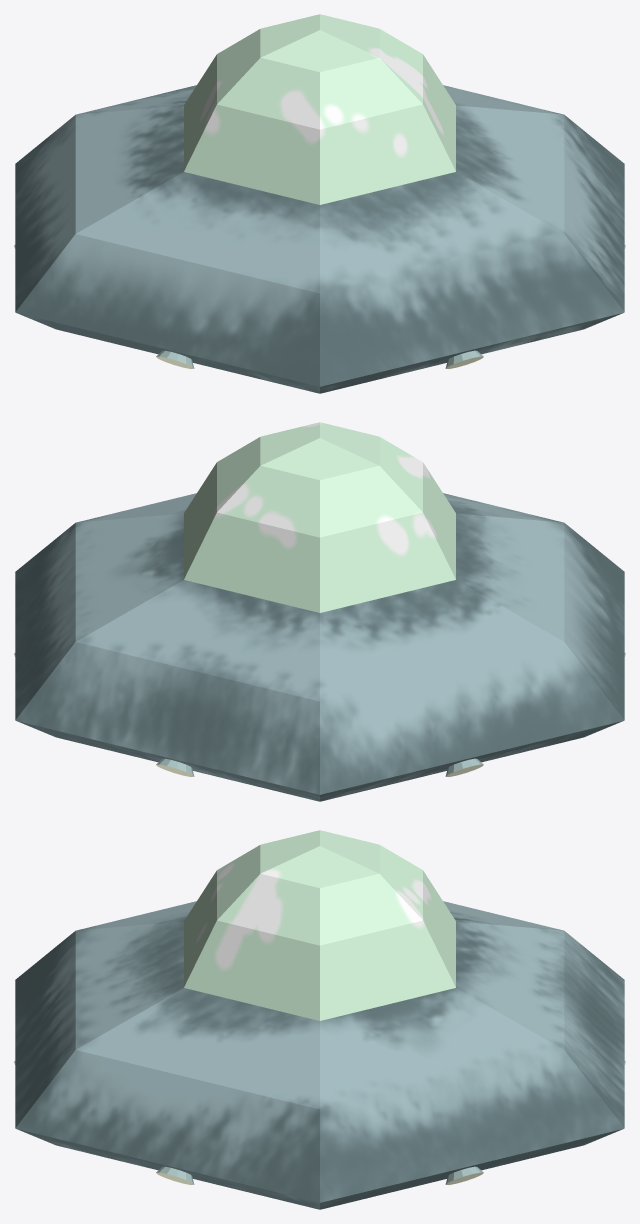
Rendered from env_spaceShip.fbx.
3 views of the same model, one above another, from view 1: azimuth 30°, elevation 25°; view 2: azimuth 150°, elevation 25°; view 3: azimuth 270°, elevation 25° (orthographic).
Parts seen in each view (by area): view 1: ship_body1; view 2: ship_body1; view 3: ship_body1.
Part boxes in pixels (x1,y1,x2,y2): ship_body1: [14, 14, 625, 393]; ship_body1: [14, 422, 625, 801]; ship_body1: [14, 830, 625, 1209].
Bounding box in the file's own units: 6.03 × 2.8 × 5.24.
